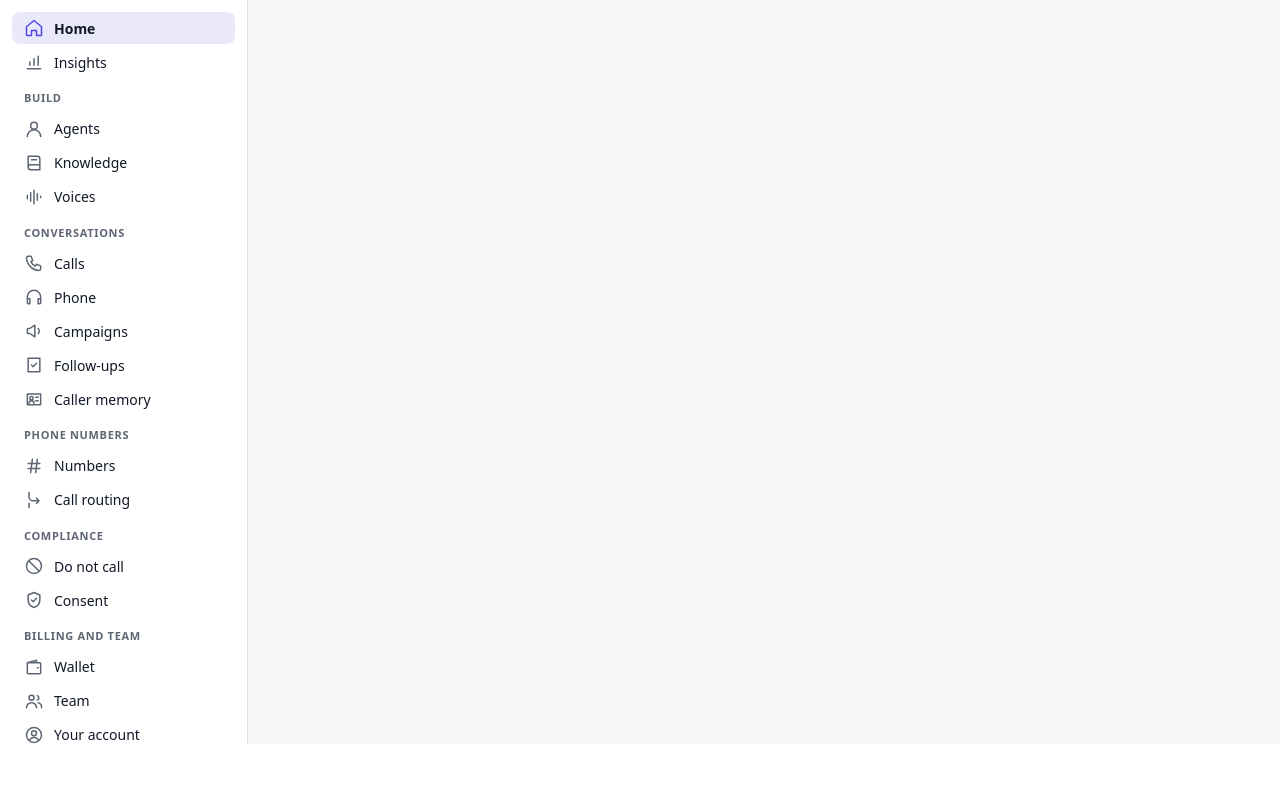
Test: call routing: the page and its numbers › is reached from the console's nav, right after Numbers, and says how rules work in plain words
What coordinates should you click on to do the following:
click the link "Call routing"
I would click on:
 (77, 500)
Its box is [24,490,130,510].
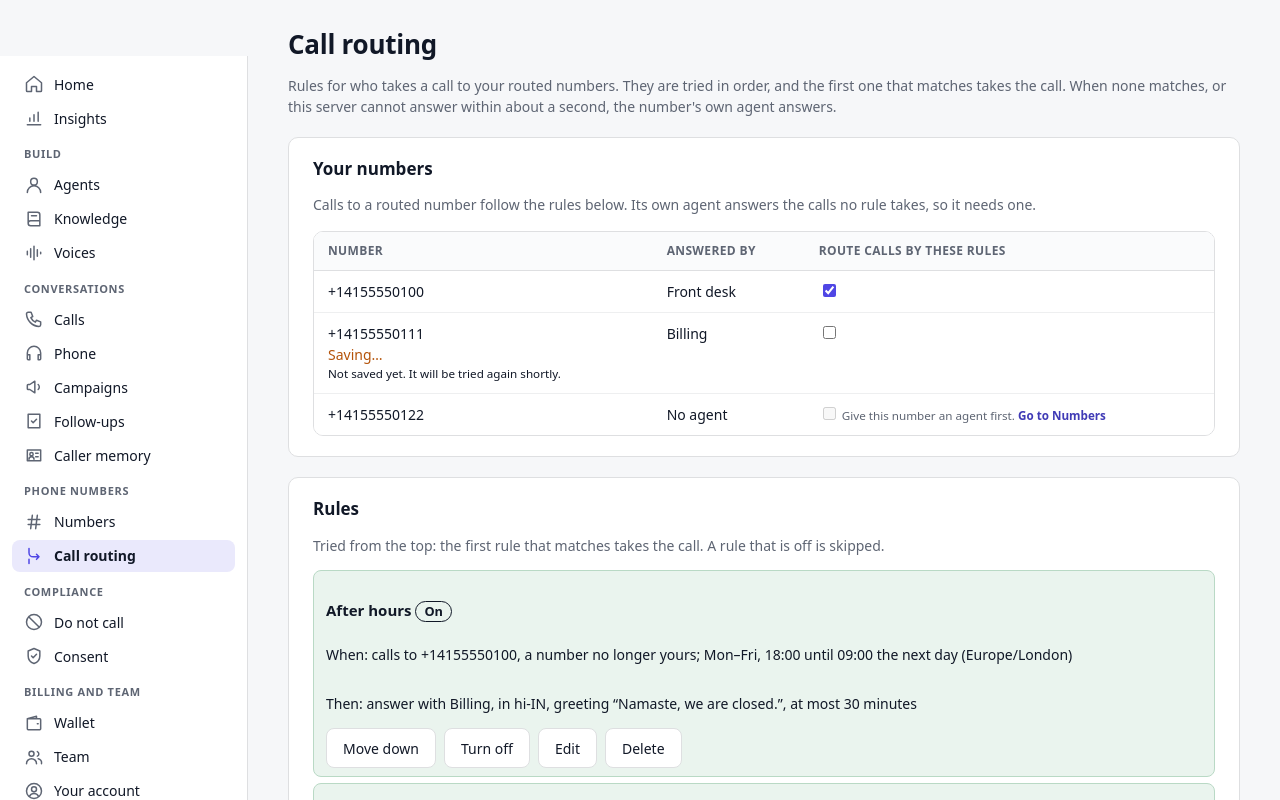
Expected: the heading "Call routing" is shown, [288,26,437,62]
Expected: the text "Rules for who takes a call to your routed numbers. They are tried in order, and the first one that matches takes the cal" is shown, [288,76,1226,116]
Expected: the heading "Rules" is shown, [313,497,359,520]
